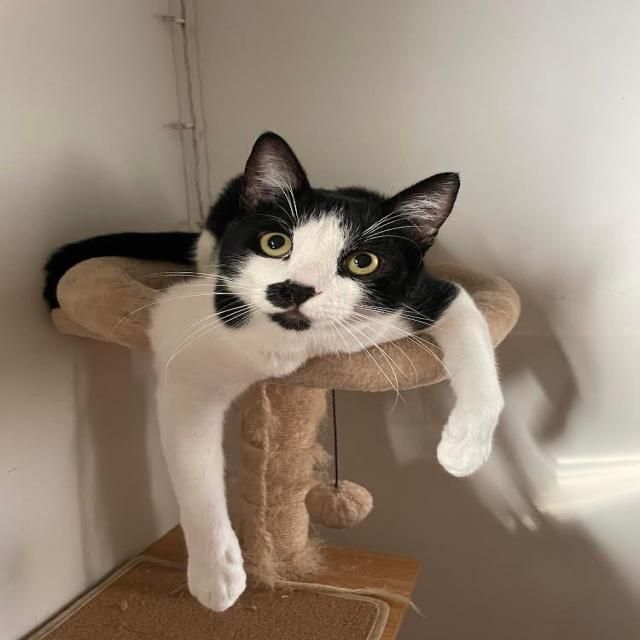domestic_short_hair_cat: (198, 128, 471, 342)
